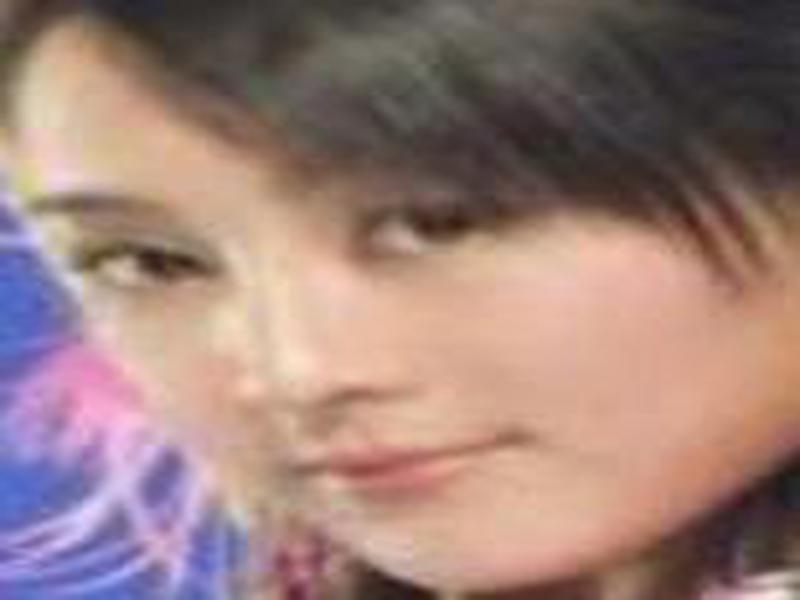without_mask: (12, 50, 721, 584)
